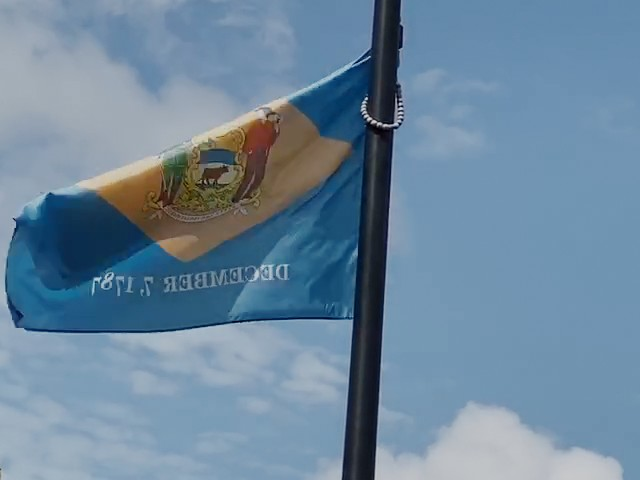Delaware flag: (2, 49, 368, 332)
